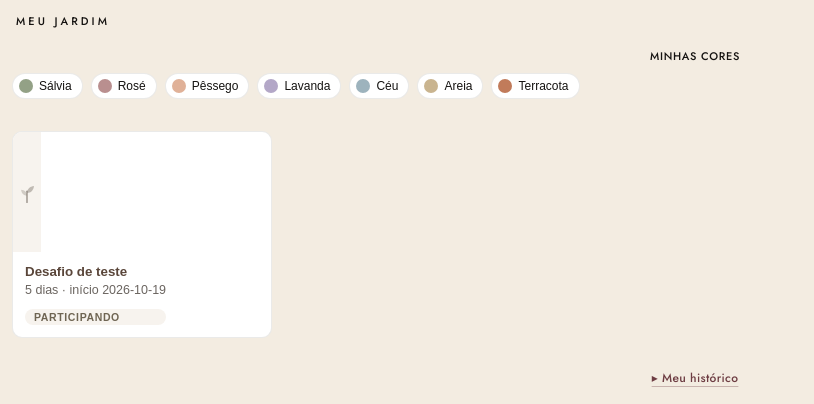
Test case: GardenMemberView — carregamento de atividades (useGardenMember mockado, sem Supabase) › mostra "Nenhuma atividade cadastrada ainda." só quando carregou com sucesso e não há dias
Click the text "Desafio de teste" at (76, 272), box [25, 264, 127, 279]
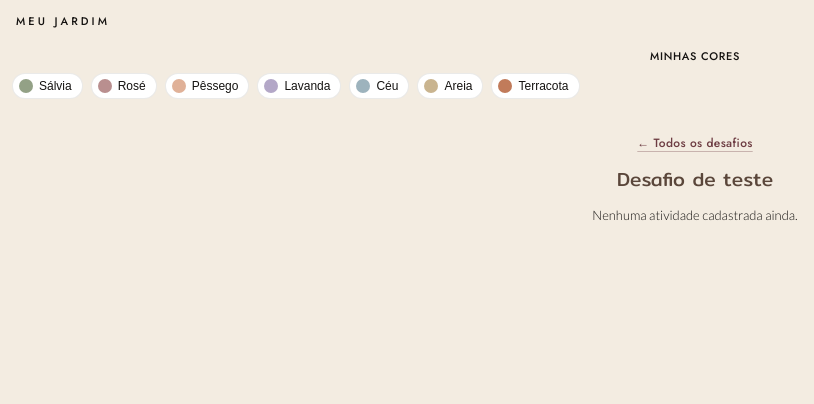
Expected: the text "Nenhuma atividade cadastrada ainda." is shown, [592, 207, 798, 223]
